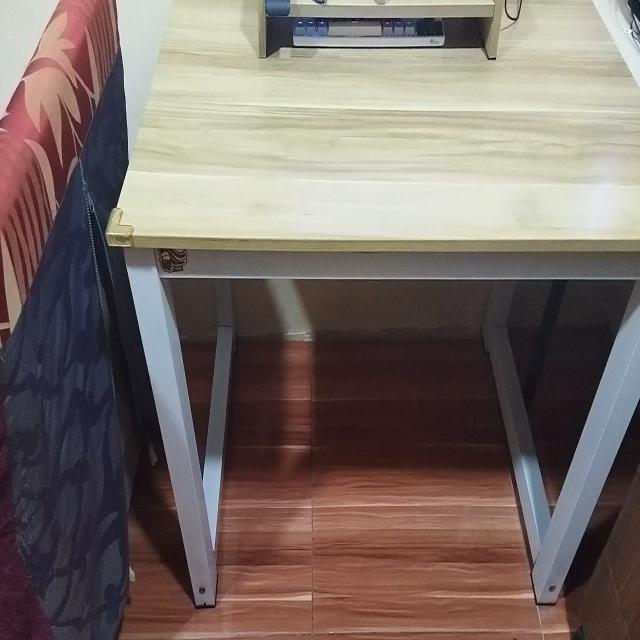table: (99, 0, 640, 608)
